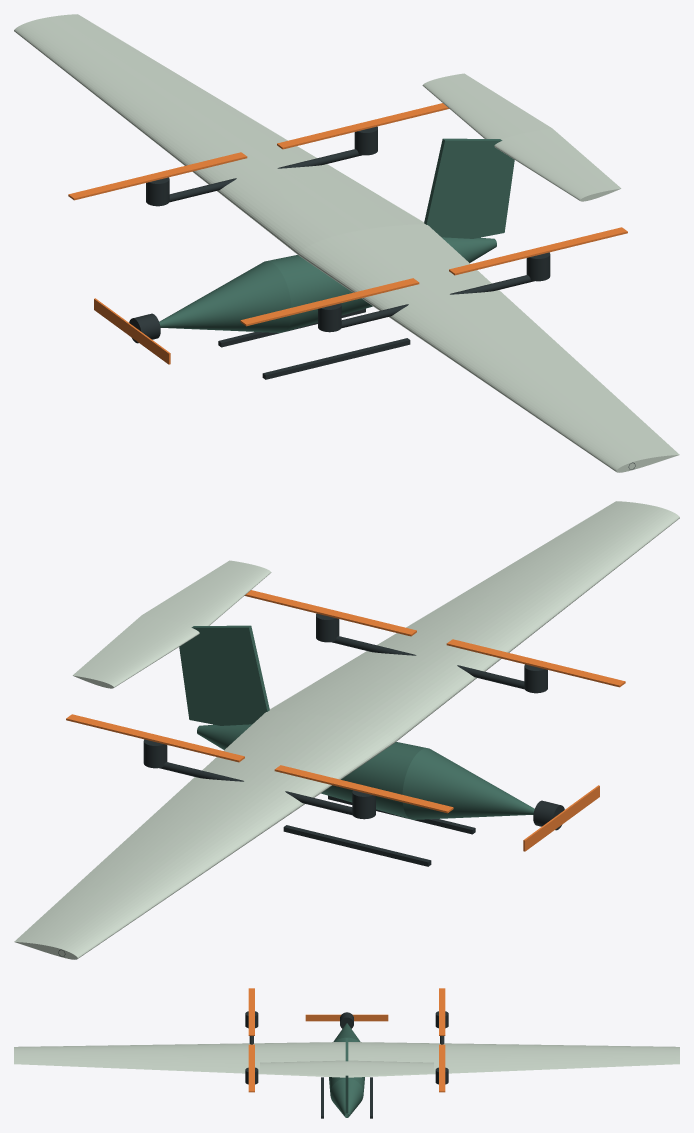
3 renders of one model, top to bottom at view 1: azimuth 30°, elevation 25°; view 2: azimuth 150°, elevation 25°; view 3: azimuth 270°, elevation 25°, orthographic. The views are drawn at different scales.
Parts seen in each view (by area): view 1: wing-1, wing1, fuselage, fin, tail-1, tail1, prop_-1_210.0, prop_-1_700.0, prop_1_210.0, prop_1_700.0, skid-1, boom-1 (+2 smaller); view 2: wing1, wing-1, fuselage, fin, tail1, tail-1, prop_-1_210.0, prop_1_210.0, prop_1_700.0, prop_-1_700.0, skid1, boom1 (+2 smaller); view 3: wing-1, wing1, fuselage, tail-1, tail1, cruise_prop, prop_-1_700.0, prop_1_700.0, prop_-1_210.0, prop_1_210.0, fin.
Part boxes in pixels (x1,y1,x2,y2): wing-1: (299, 224, 679, 472); wing1: (14, 14, 424, 255); fuselage: (159, 237, 496, 332); fin: (424, 138, 514, 238); tail-1: (494, 128, 621, 201); tail1: (422, 73, 551, 139); prop_-1_210.0: (240, 278, 419, 326); prop_-1_700.0: (449, 227, 627, 275); prop_1_210.0: (68, 152, 247, 200); prop_1_700.0: (277, 103, 449, 149); skid-1: (262, 338, 410, 379); boom-1: (341, 275, 534, 328); wing1: (14, 711, 394, 959); wing-1: (269, 501, 679, 742); fuselage: (197, 724, 534, 819); fin: (179, 625, 269, 725); tail1: (72, 615, 199, 688); tail-1: (142, 560, 271, 626); prop_-1_210.0: (446, 639, 625, 687); prop_1_210.0: (274, 765, 453, 813); prop_1_700.0: (66, 714, 244, 762); prop_-1_700.0: (244, 590, 416, 636); skid1: (283, 825, 431, 866); boom1: (159, 762, 352, 815); wing-1: (14, 1042, 345, 1077); wing1: (348, 1042, 679, 1077); fuselage: (329, 1023, 364, 1117); tail-1: (260, 1060, 346, 1075); tail1: (347, 1060, 433, 1075); cruise_prop: (305, 1014, 388, 1021); prop_-1_700.0: (248, 1044, 254, 1092); prop_1_700.0: (439, 1044, 445, 1092); prop_-1_210.0: (248, 988, 254, 1035); prop_1_210.0: (439, 988, 445, 1035); fin: (345, 1038, 348, 1113).
Size of the model in its own units: 989 by 390 by 2450.
